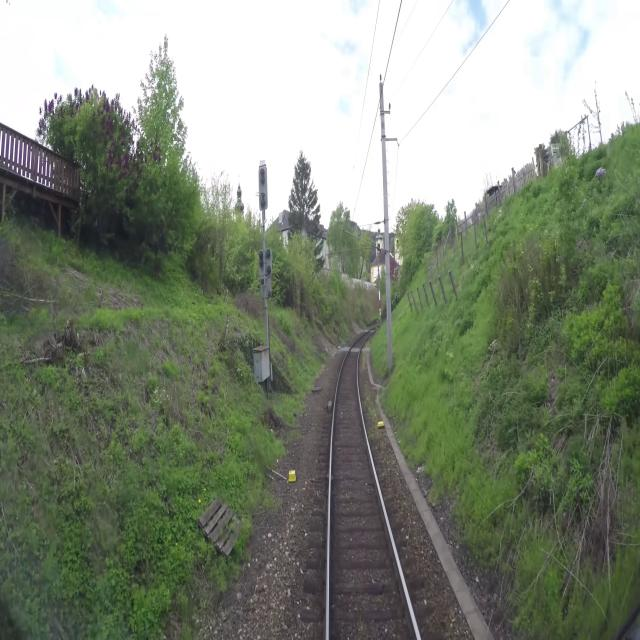rail-track: (330, 335, 416, 639)
